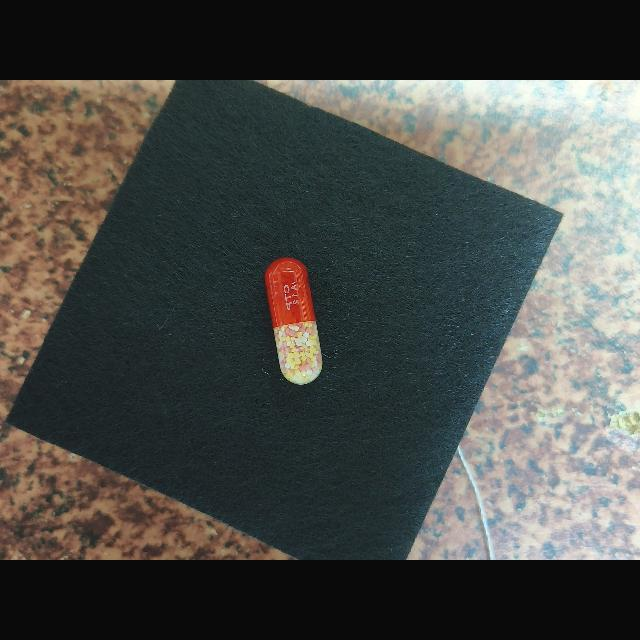Intact Capsule: (265, 257, 323, 385)
